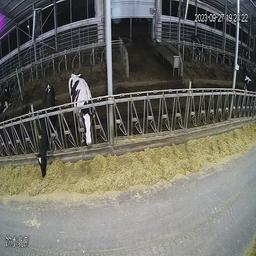cow: (66, 64, 98, 165), (34, 74, 61, 185), (239, 66, 255, 117), (0, 77, 14, 116)
